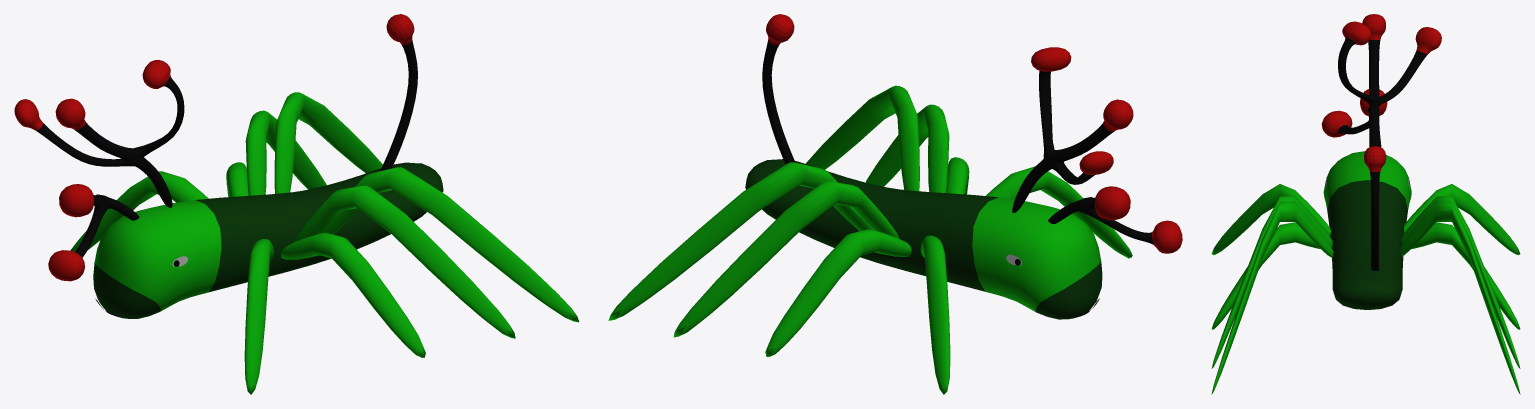
File: grasshopper-0.obj
3 renders of one model, left to right at view 1: azimuth 30°, elevation 25°; view 2: azimuth 150°, elevation 25°; view 3: azimuth 270°, elevation 25°, orthographic. The views are drawn at different scales.
Parts seen in each view (by area): view 1: Grasshopper_Cube.4117; view 2: Grasshopper_Cube.4117; view 3: Grasshopper_Cube.4117.
Boxes of the visible parts, left/top/right/bottom form: Grasshopper_Cube.4117: left=14, top=14, right=579, bottom=394; Grasshopper_Cube.4117: left=608, top=14, right=1182, bottom=394; Grasshopper_Cube.4117: left=1211, top=14, right=1520, bottom=394.
Bounding box in the file's own units: 2.06 × 1.21 × 1.45.
